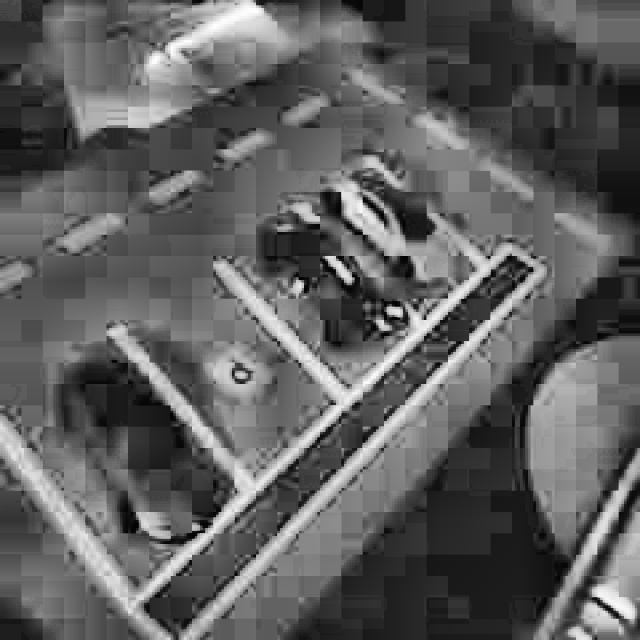car: (52, 347, 224, 555), (249, 188, 405, 365), (314, 135, 466, 298)
